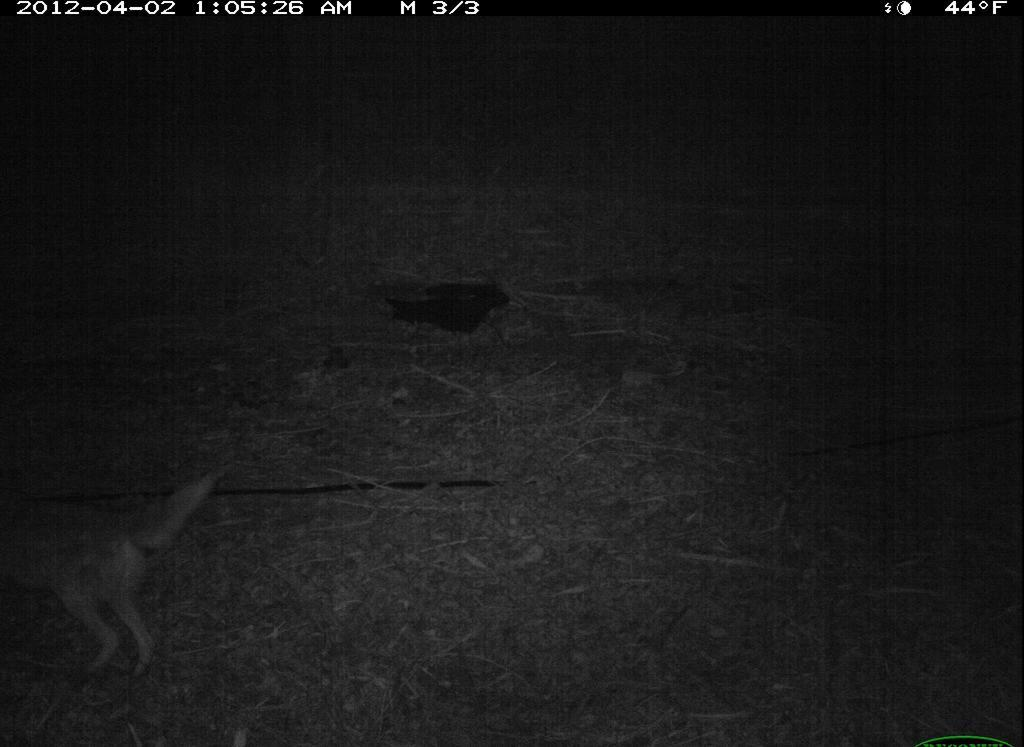coyote: (17, 466, 233, 699)
